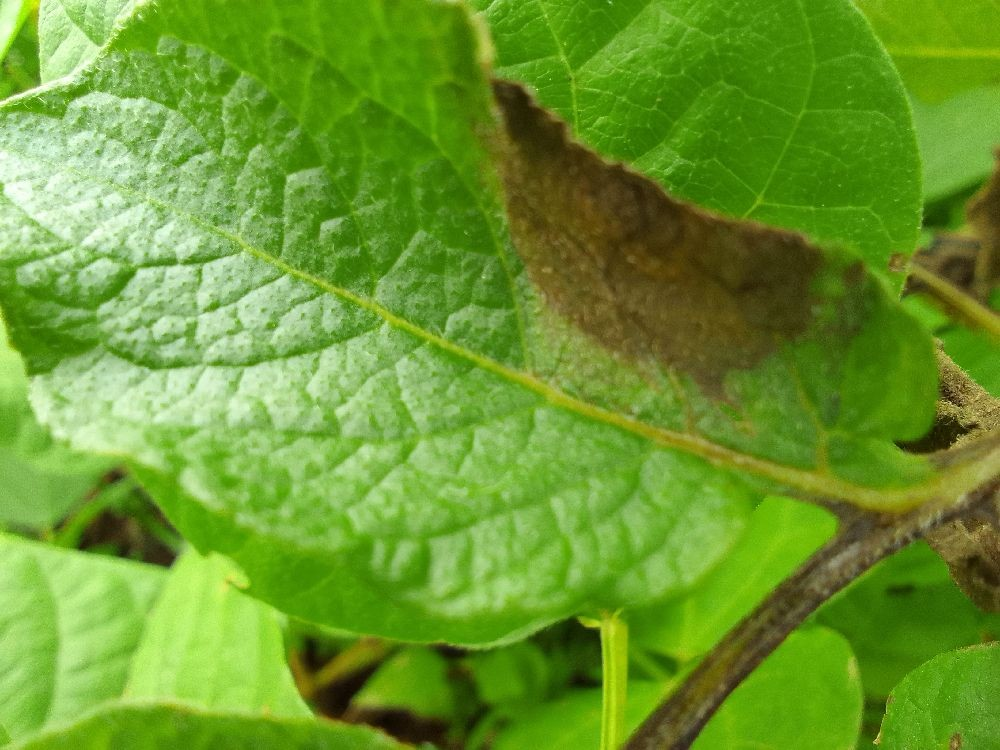late_blight: (576, 428, 1000, 750), (474, 62, 835, 419), (881, 129, 1000, 353), (892, 353, 1000, 484)
